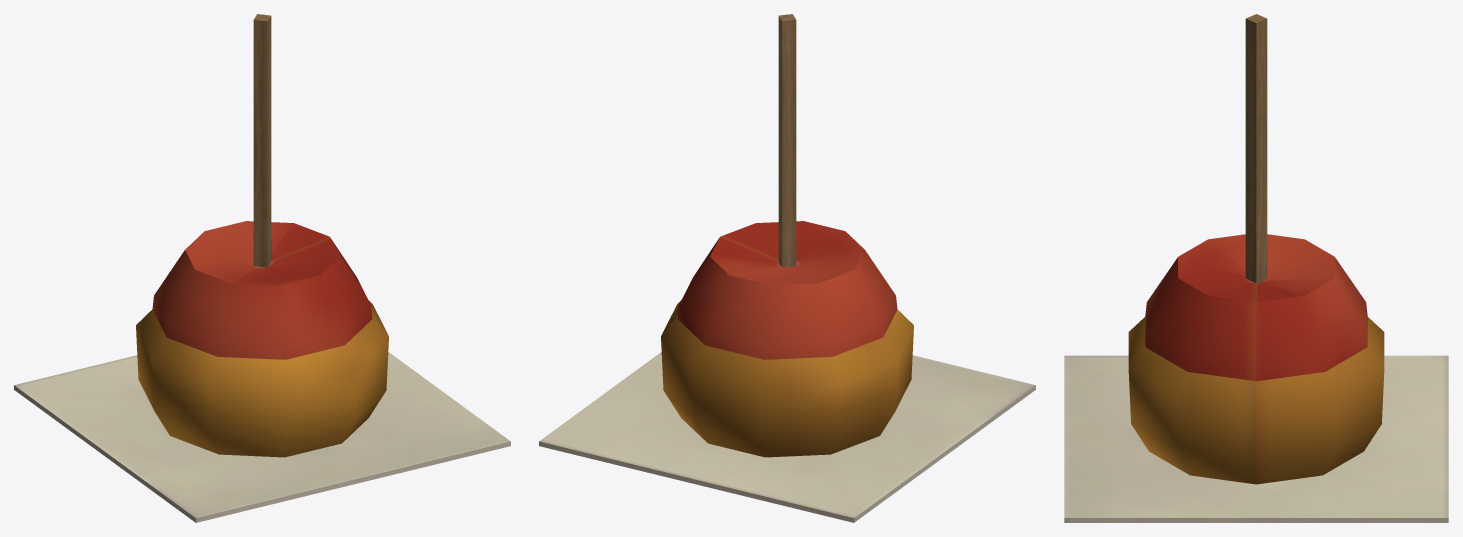
File: caramel_apple.obj
3 views of the same model, side by side, from view 1: azimuth 30°, elevation 25°; view 2: azimuth 150°, elevation 25°; view 3: azimuth 270°, elevation 25° (orthographic). The views are drawn at different scales.
Visible parts, largest first — view 1: caramel_apple; view 2: caramel_apple; view 3: caramel_apple.
Part boxes in pixels (<box>): caramel_apple: <box>14,14,510,522</box>; caramel_apple: <box>539,14,1035,522</box>; caramel_apple: <box>1064,14,1448,522</box>.
Size of the model in its own units: 0.14 by 0.17 by 0.14.
1 material, 1 textured.
